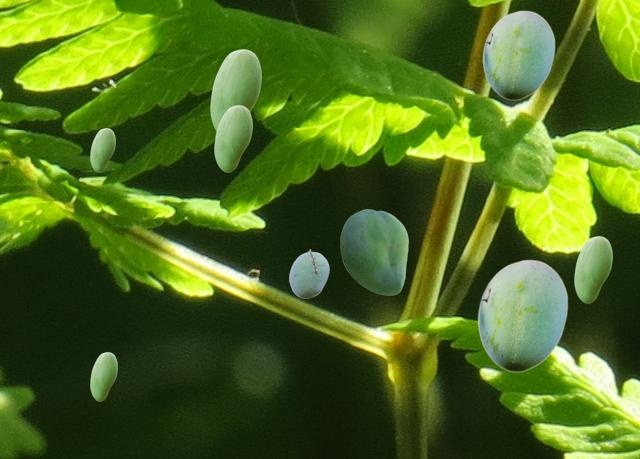green_mango: (477, 259, 567, 371), (482, 10, 554, 99), (340, 209, 407, 294), (210, 49, 260, 130), (214, 105, 251, 171), (574, 236, 611, 302), (289, 249, 328, 297), (90, 352, 116, 400), (90, 128, 114, 171)
